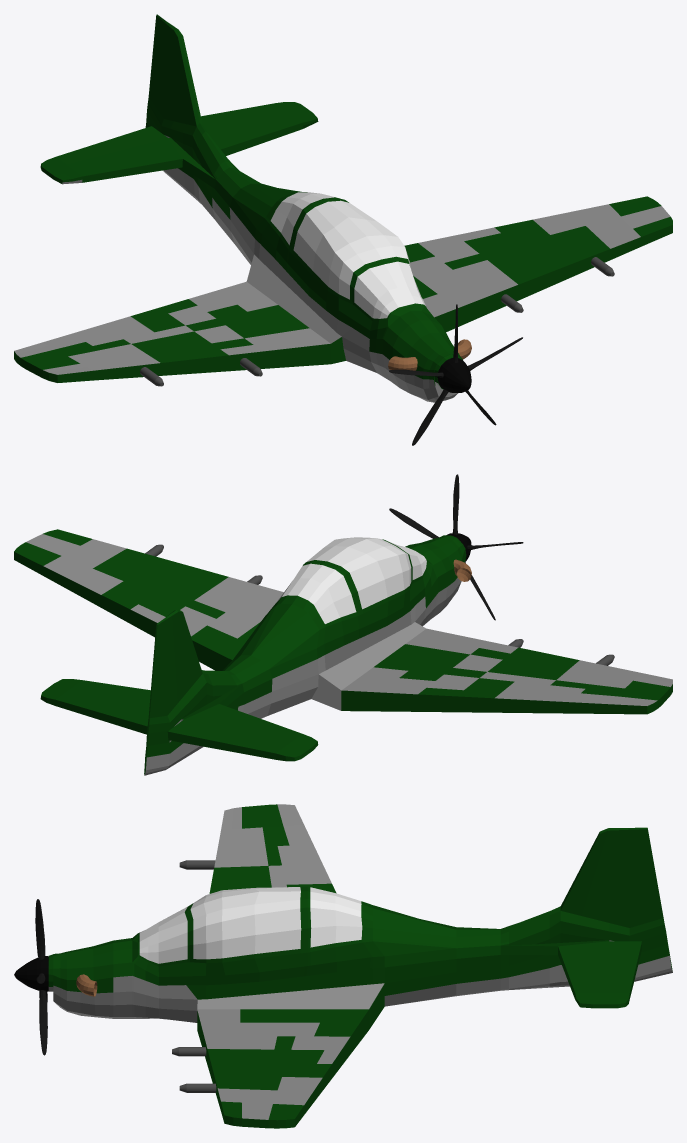
The model's file is SUPER TUCANinho-final2.fbx.
3 renders of one model, top to bottom at view 1: azimuth 30°, elevation 25°; view 2: azimuth 150°, elevation 25°; view 3: azimuth 270°, elevation 25°, orthographic.
Parts seen in each view (by area): view 1: BODY, VIDRO, propeler.004, arma, propeler engine; view 2: BODY, VIDRO, propeler.004, arma; view 3: BODY, VIDRO, propeler.004, arma, propeler engine.
Boxes of the visible parts, x1,y1,x2,y2 form: BODY: (14, 14, 672, 402); VIDRO: (270, 192, 425, 318); propeler.004: (389, 304, 522, 445); arma: (140, 257, 614, 386); propeler engine: (437, 358, 471, 392); BODY: (14, 529, 672, 775); VIDRO: (277, 537, 426, 623); propeler.004: (389, 474, 523, 620); arma: (145, 544, 614, 665); BODY: (48, 804, 672, 1128); VIDRO: (139, 887, 362, 963); propeler.004: (35, 899, 47, 1055); arma: (172, 860, 216, 1092); propeler engine: (14, 956, 48, 991).
Size of the model in its own units: 500 by 153 by 441.
